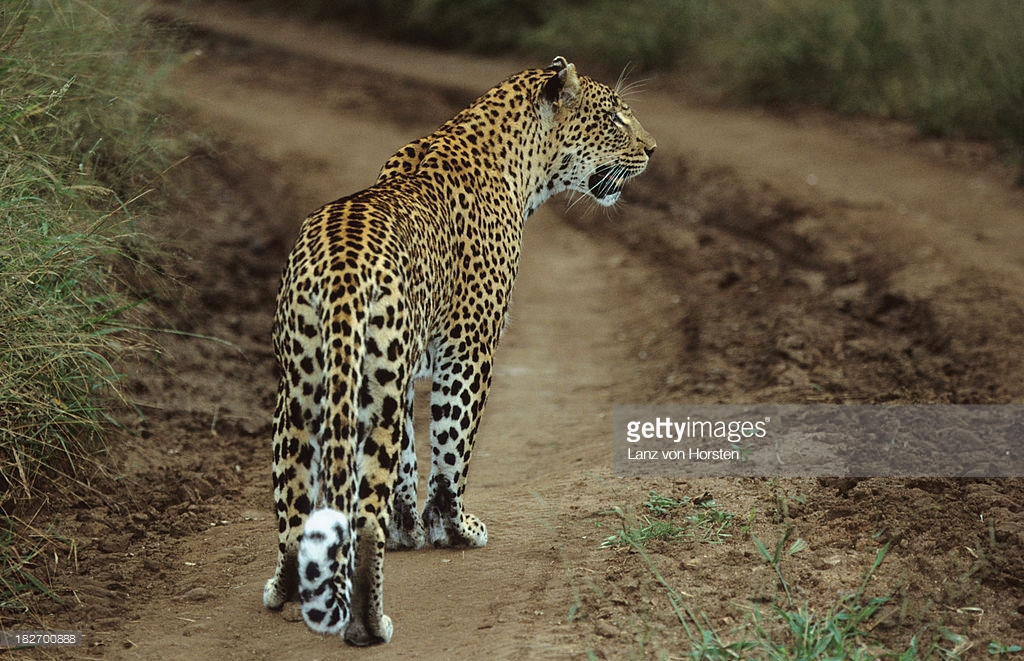leopard: (255, 56, 660, 656)
